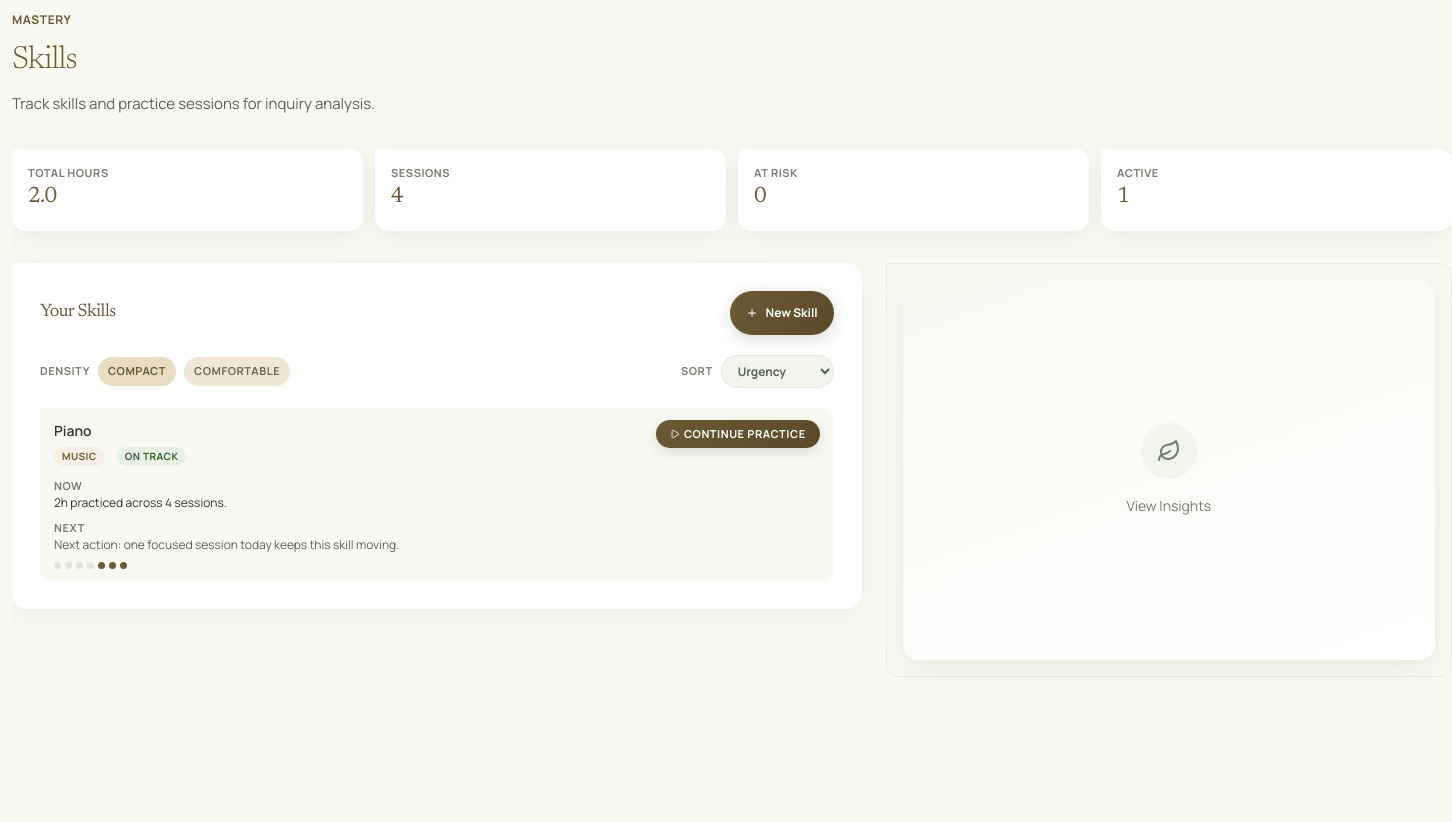
SkillsPage create flow rollout behavior › keeps compact density by default and shows more secondary metrics in comfortable mode
The image size is (1452, 822).
Check: the button with aria-label "open details for piano" is shown, box x1=40 y1=408 x2=834 y2=581
Check: the text "in last 7d" is not shown
Click the button "Comfortable". click: {"x": 237, "y": 371}
box: x1=184 y1=357 x2=290 y2=386
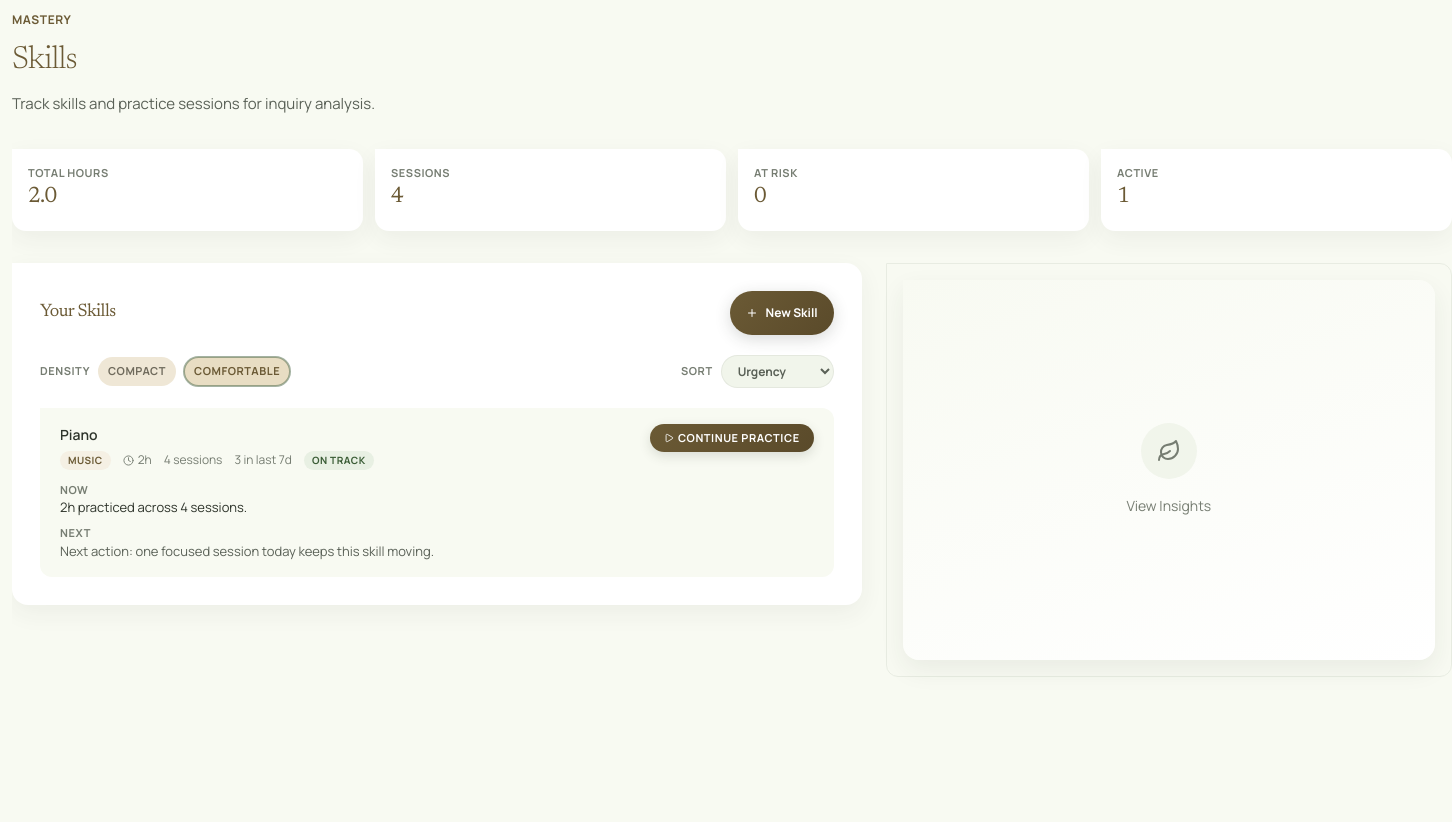
Check: the text "3 in last 7d" is shown, box x1=234 y1=451 x2=292 y2=469
